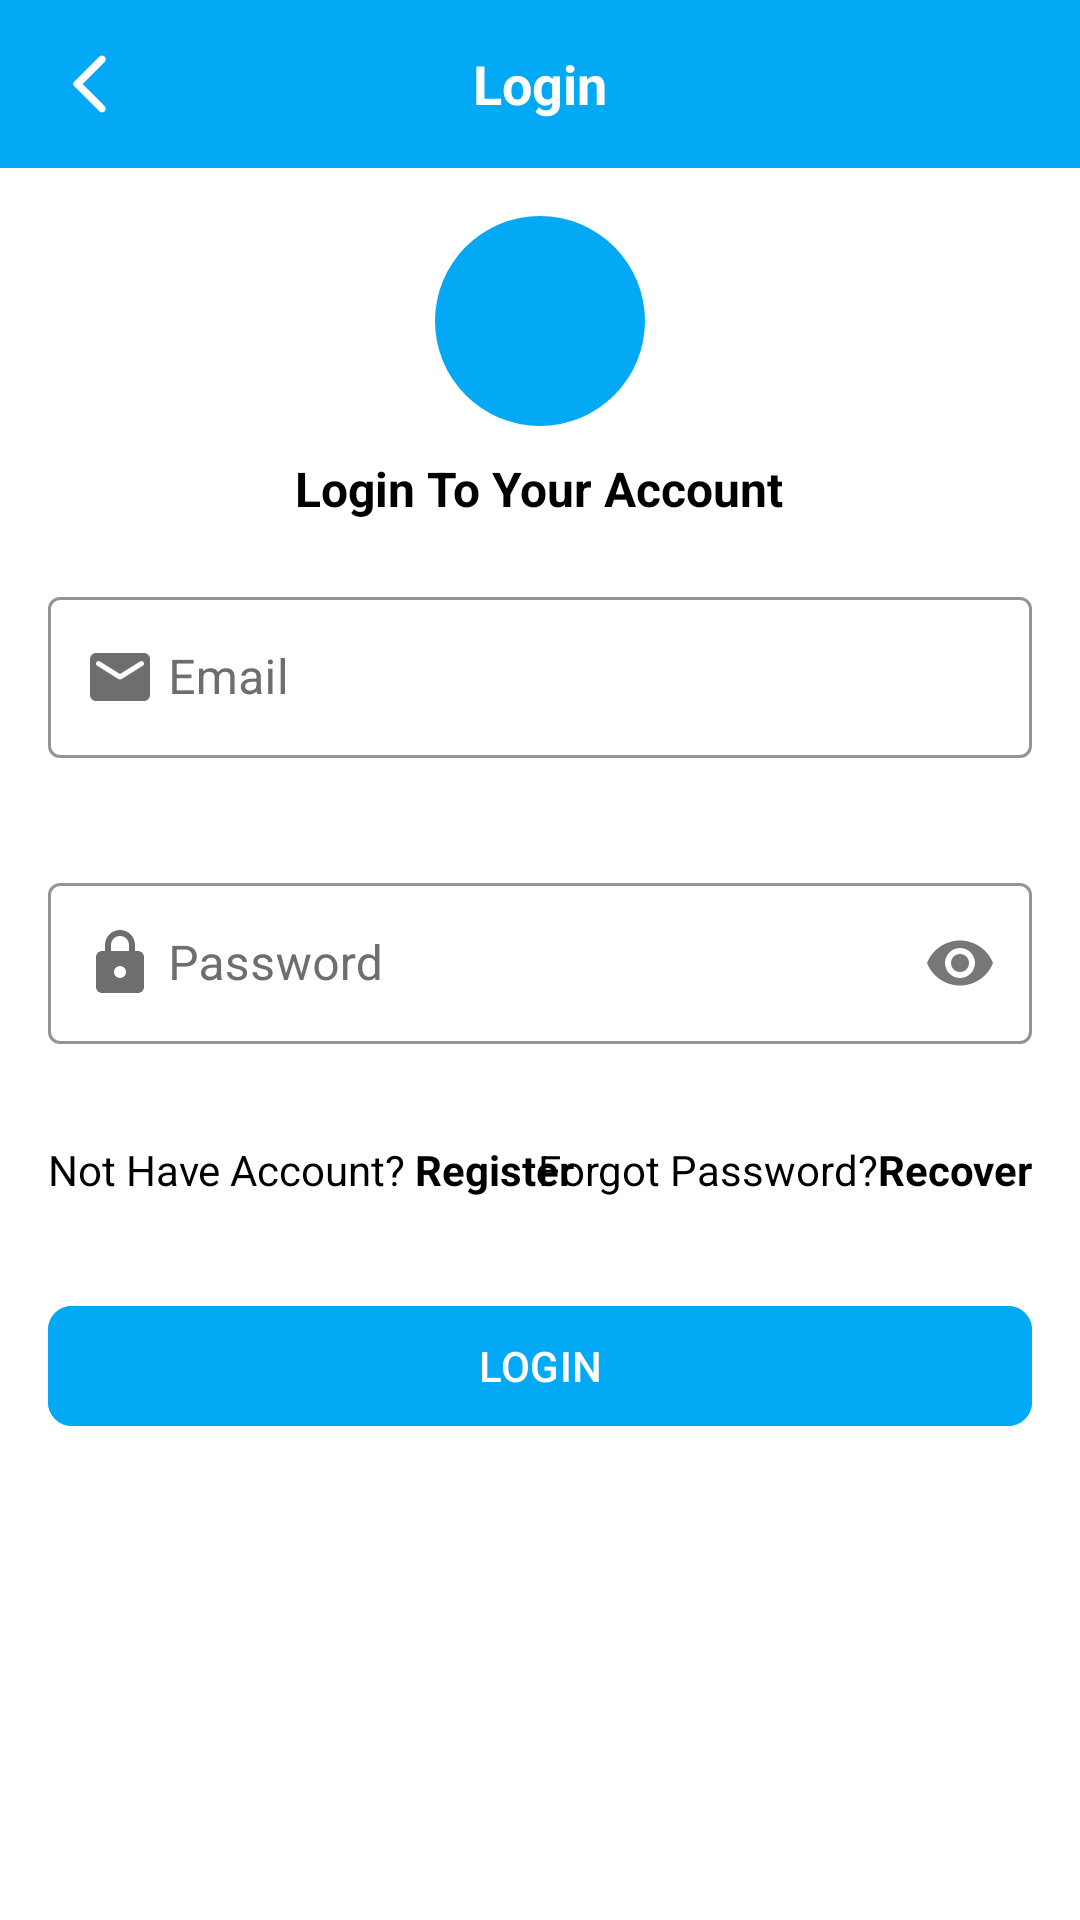

Where icons sit on this 1080x1920 app screen, as [x1, y1, x2, y2]:
back: [73, 55, 106, 113]
